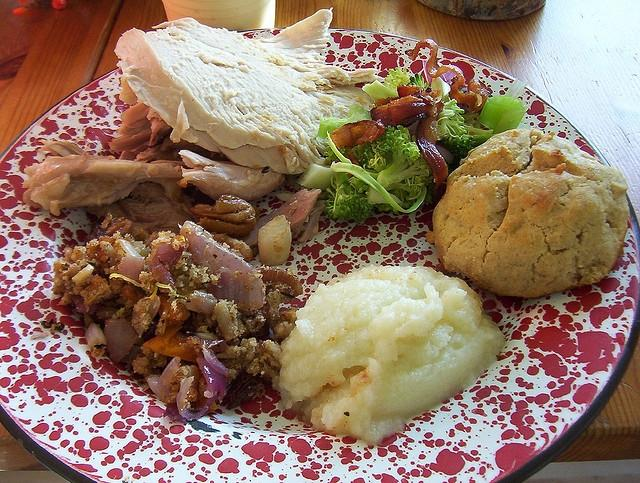broccoli: (329, 160, 426, 213), (436, 99, 498, 170), (373, 126, 432, 200), (324, 172, 375, 222), (313, 104, 372, 140), (478, 94, 526, 134), (362, 67, 410, 103), (351, 142, 394, 174)
